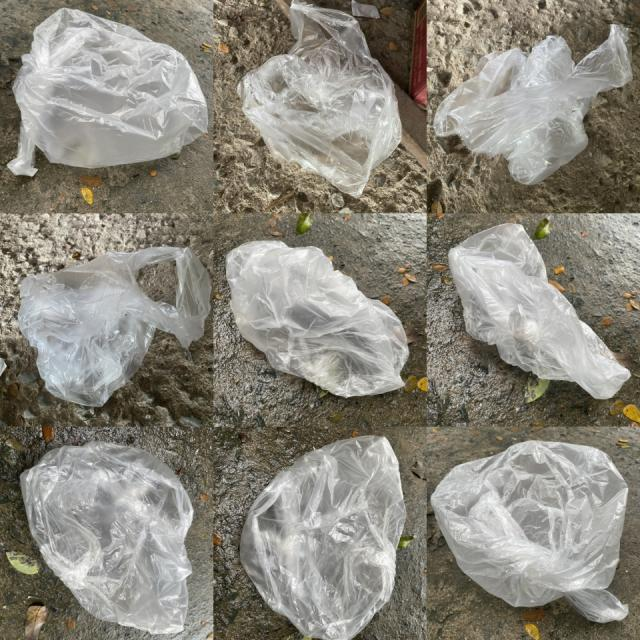Single-layer Plastic: (431, 441, 628, 622), (240, 436, 406, 640), (8, 8, 208, 176), (20, 441, 192, 634), (238, 0, 401, 198), (449, 224, 630, 399), (434, 25, 632, 184), (19, 246, 211, 406), (226, 241, 409, 397)
